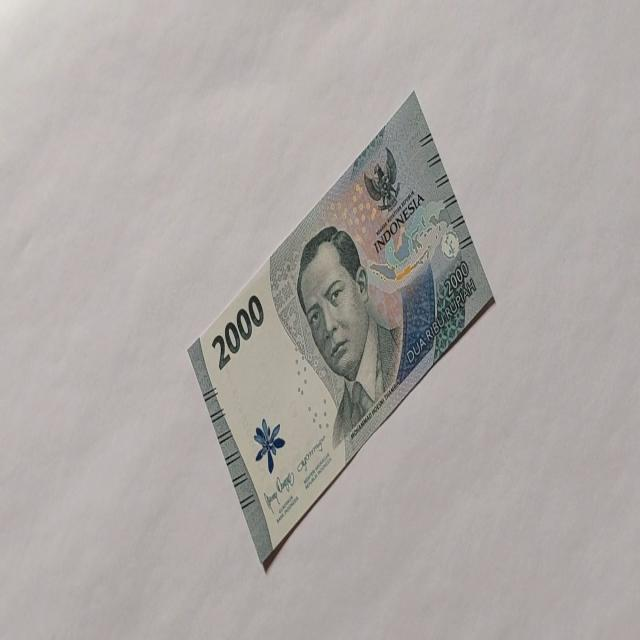dua ribu rupiah: (186, 89, 496, 569), (295, 224, 403, 450), (210, 293, 264, 372)
